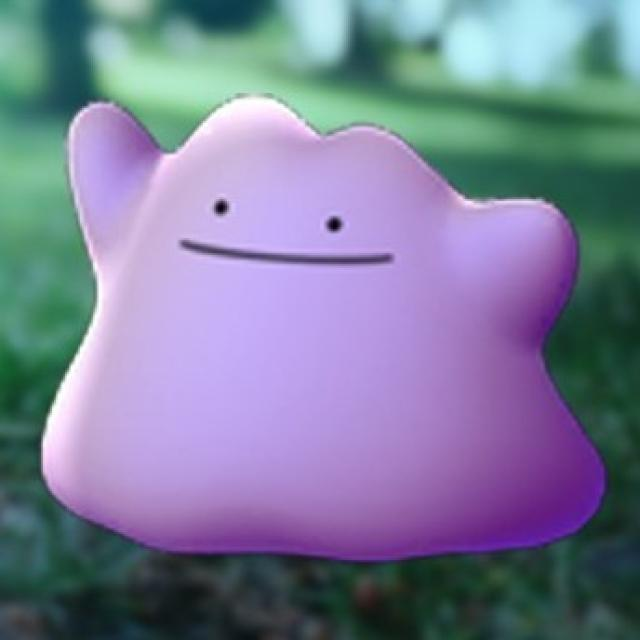Ditto: (38, 90, 607, 555)
